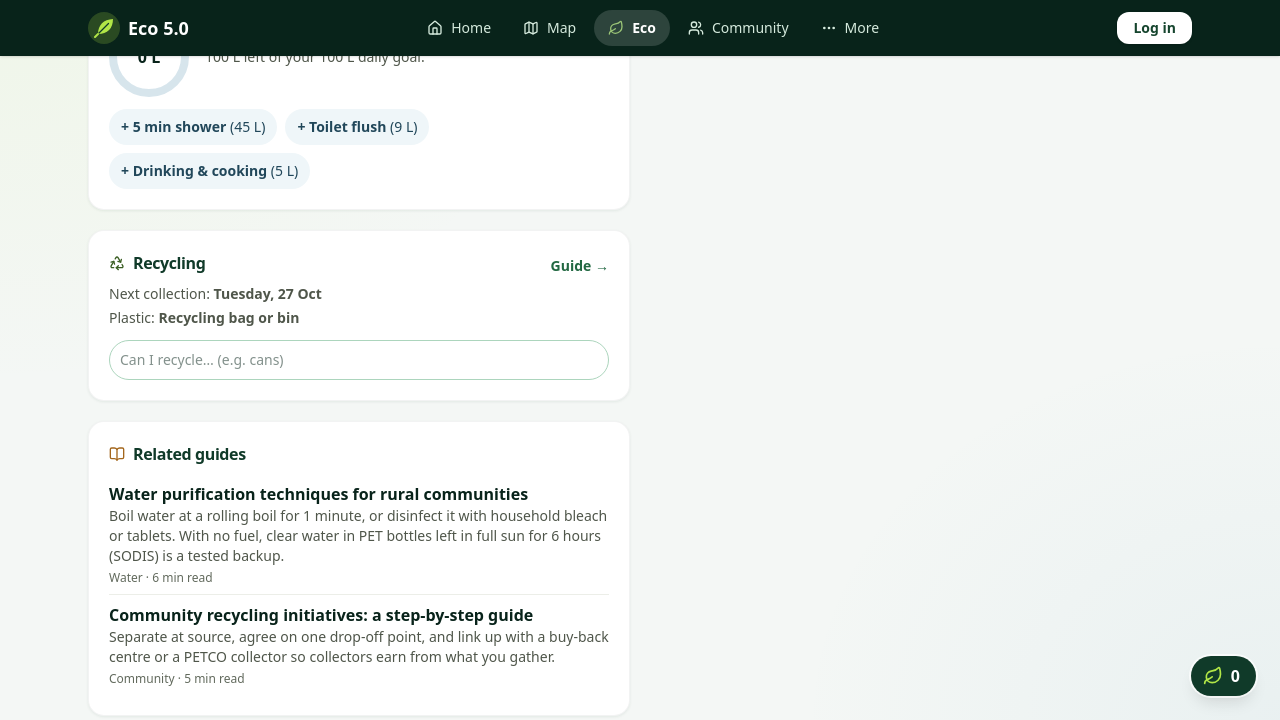
Test: Wide desktop quick widgets (2xl and up) › answers "can I recycle it?" from the side widget
(page scrolled)
Type "cans" into the search field named "Can I recycle it?" at (359, 360), box [109,340,609,380]
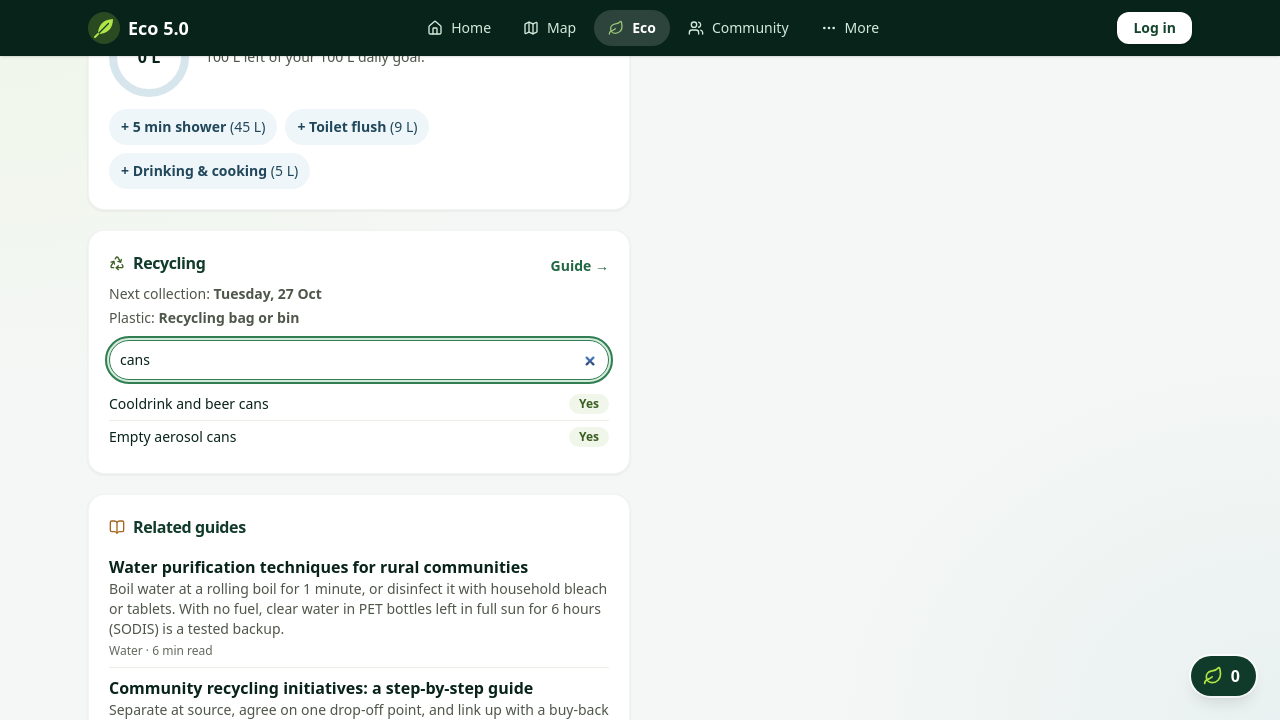
Expected: the list item "Cooldrink and beer cans" shows "Yes", [579,395,599,412]
